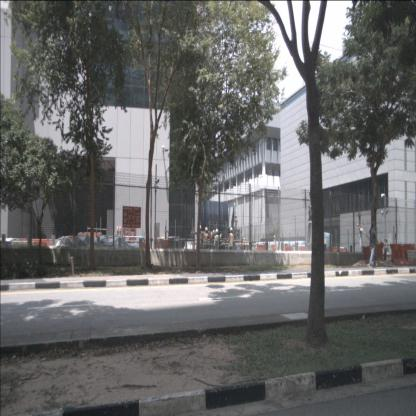barrier: (390, 243, 416, 266), (362, 242, 384, 266)
